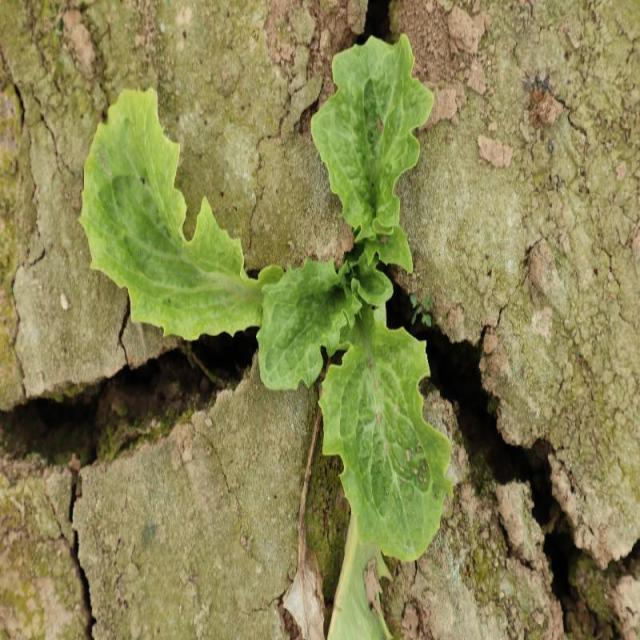crop: (77, 31, 460, 565)
